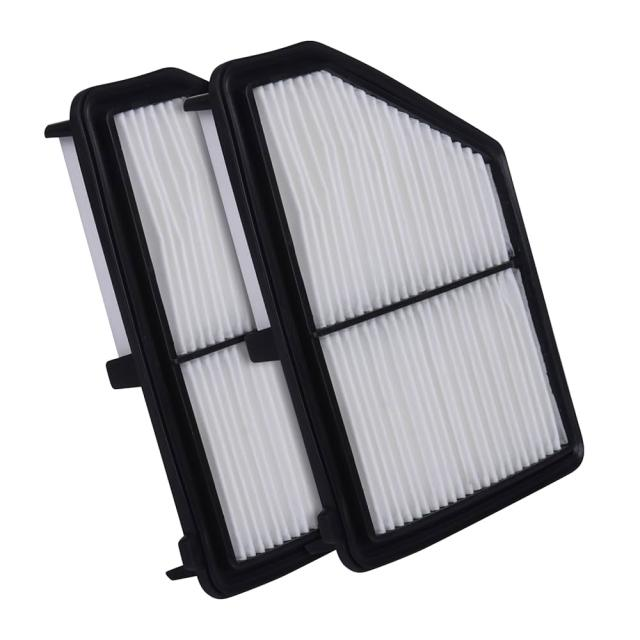air_filter: (67, 88, 585, 470)
